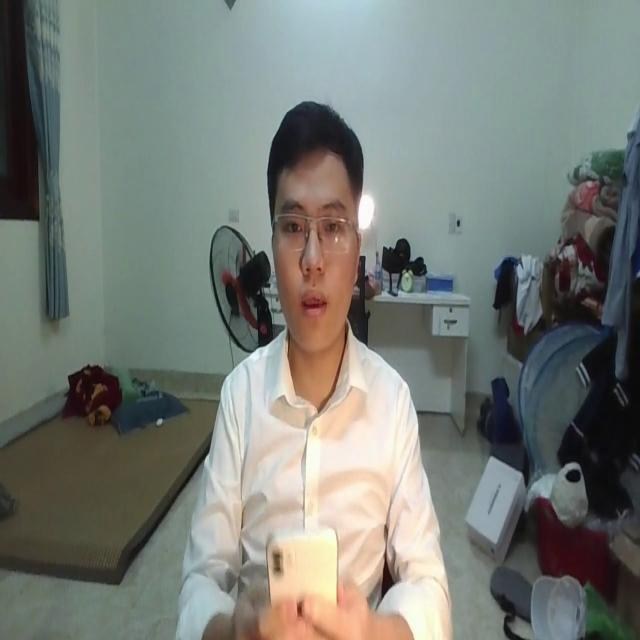phone: (266, 524, 340, 632)
student: (178, 88, 454, 640)
